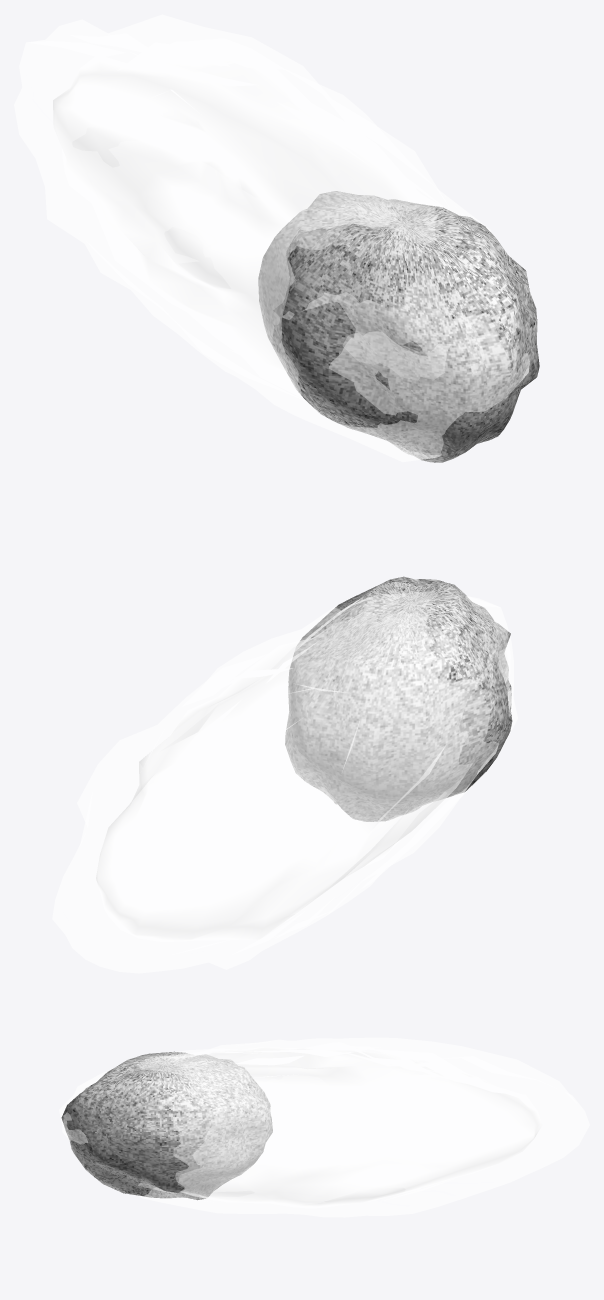
File: halleycomet.glb
3 renders of one model, top to bottom at view 1: azimuth 30°, elevation 25°; view 2: azimuth 150°, elevation 25°; view 3: azimuth 270°, elevation 25°, orthographic. The views are drawn at different scales.
Parts seen in each view (by area): view 1: Sphere.002, Sphere.001, Sphere; view 2: Sphere.002, Sphere.001, Sphere; view 3: Sphere.002, Sphere.001, Sphere.
Part boxes in pixels (box(x1,y1,x2,y2)): Sphere.002: box(14, 14, 529, 461); Sphere.001: box(53, 42, 484, 397); Sphere: box(258, 191, 539, 462); Sphere.002: box(52, 591, 517, 973); Sphere.001: box(96, 610, 510, 941); Sphere: box(285, 576, 512, 821); Sphere.002: box(59, 1037, 589, 1217); Sphere.001: box(138, 1042, 541, 1208); Sphere: box(61, 1051, 272, 1199).
Bounding box in the file's own units: 5.05 × 4.24 × 8.91.
Materials: 5 (1 with a texture image).
